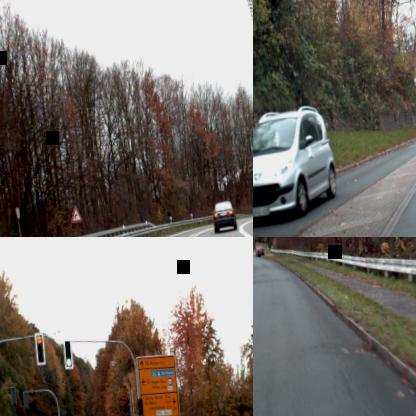bend: (70, 204, 82, 223)
